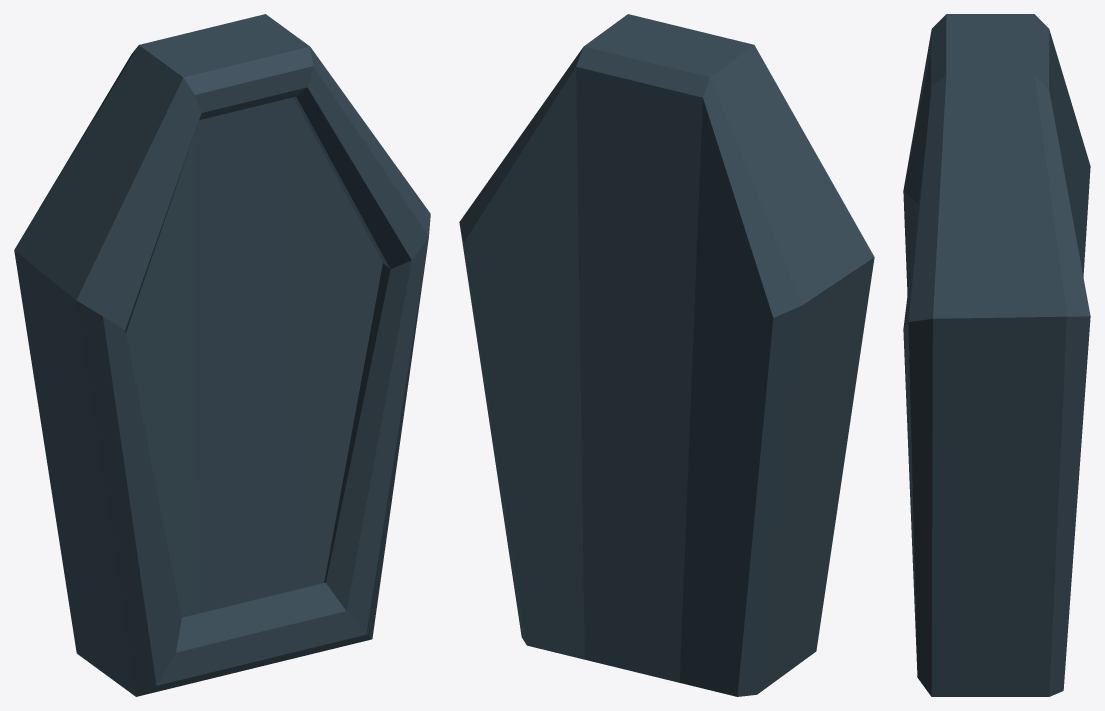
File: Grave_2_.fbx
3 renders of one model, left to right at view 1: azimuth 30°, elevation 25°; view 2: azimuth 150°, elevation 25°; view 3: azimuth 270°, elevation 25°, orthographic.
Visible parts, largest first — view 1: Grave 2; view 2: Grave 2; view 3: Grave 2.
Boxes of the visible parts, x1=… form: Grave 2: x1=14, y1=14, x2=430, y2=696; Grave 2: x1=459, y1=14, x2=874, y2=696; Grave 2: x1=903, y1=14, x2=1090, y2=696.
Size of the model in its own units: 115 by 186 by 53.11.
